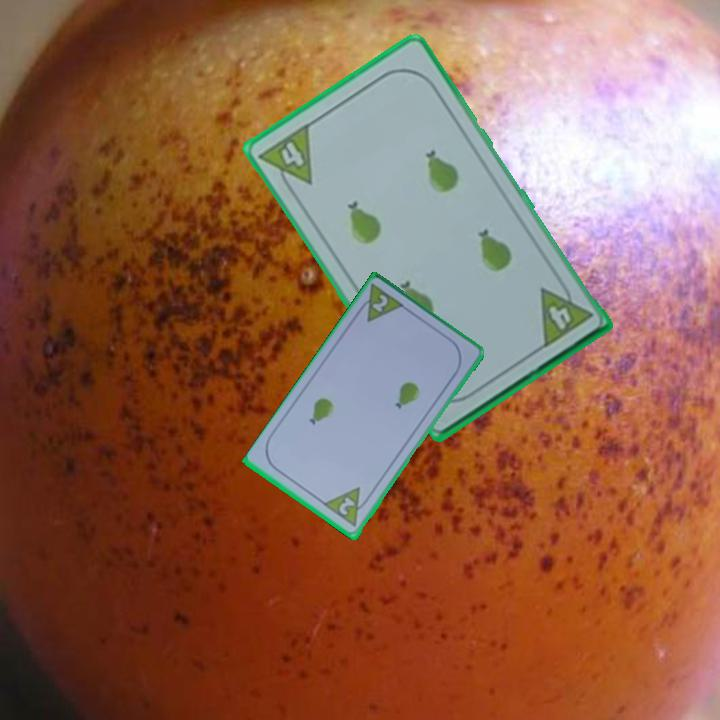2p: (352, 281, 408, 326), (321, 484, 374, 531)
4p: (255, 119, 315, 198), (535, 274, 595, 351)
